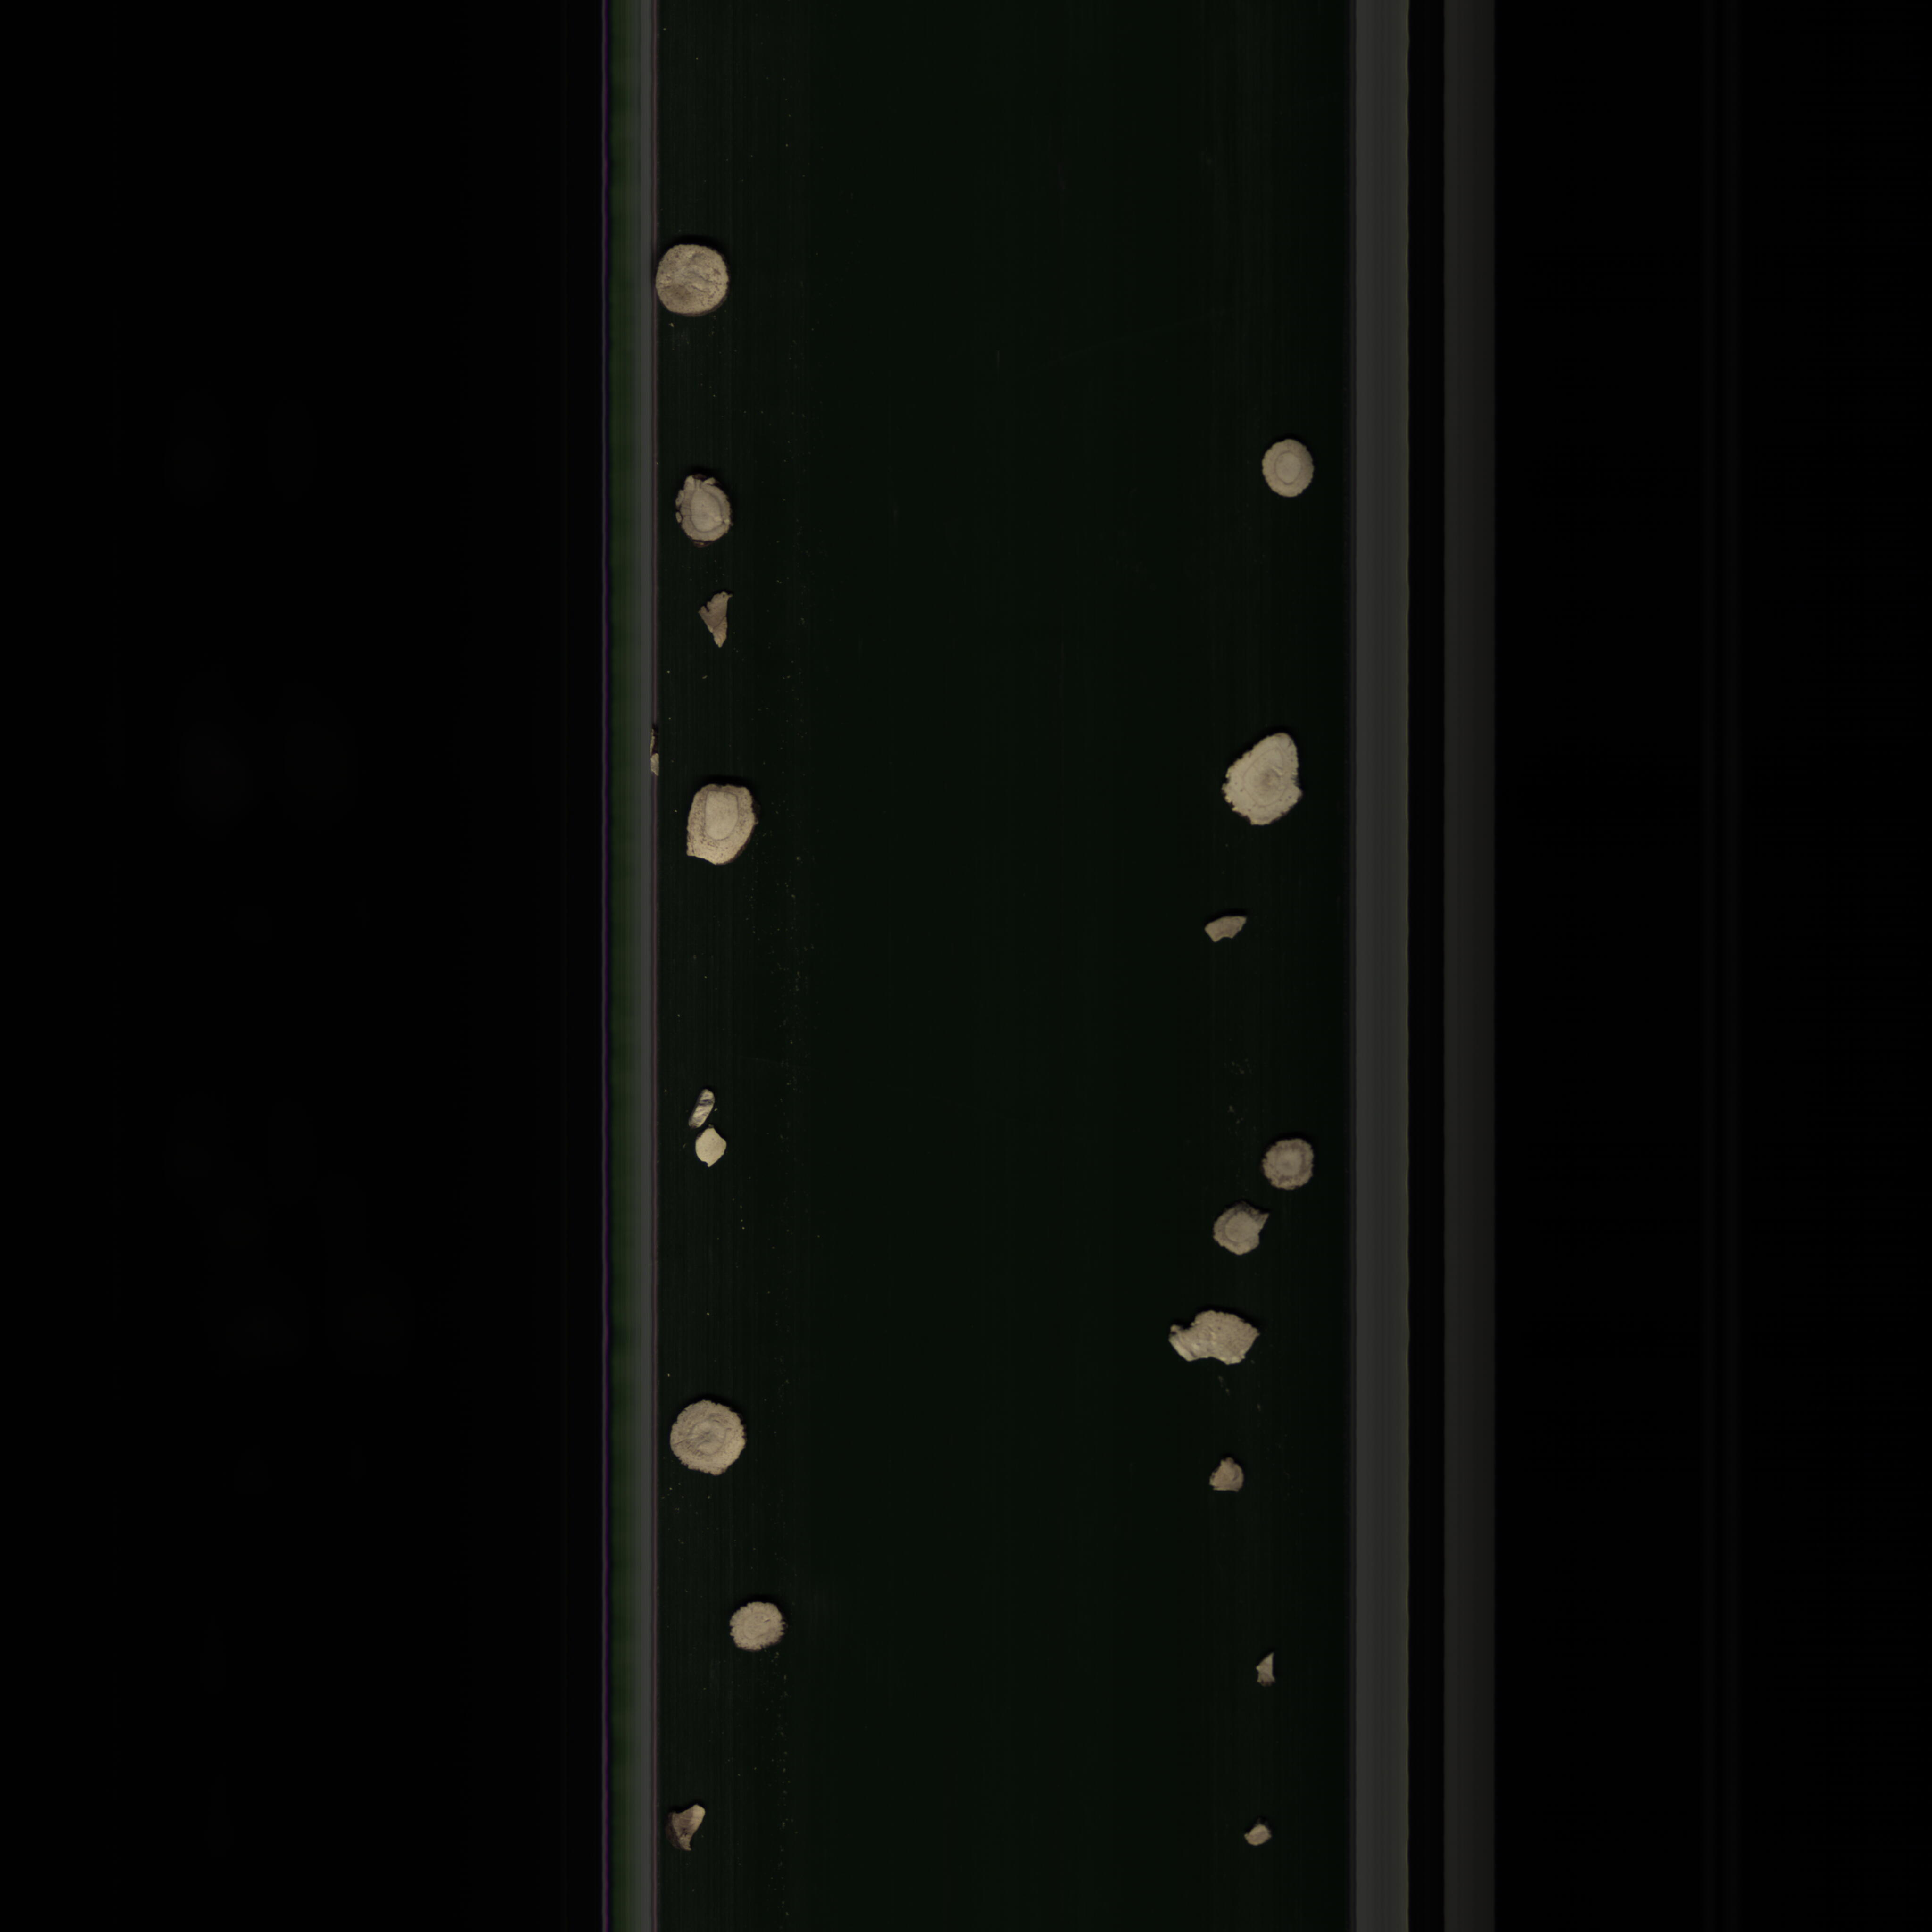debris: (1155, 1304, 1269, 1369), (683, 1088, 734, 1178), (688, 586, 745, 655), (1194, 913, 1256, 952), (1203, 1453, 1246, 1500), (669, 1801, 704, 1858), (1244, 1647, 1288, 1690), (1233, 1817, 1274, 1859)
distortion: (1215, 727, 1306, 839), (665, 464, 740, 550)
